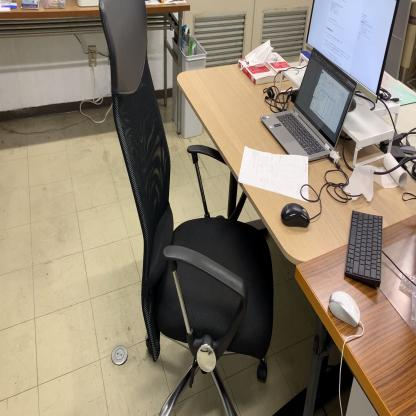chair: (97, 0, 276, 416)
